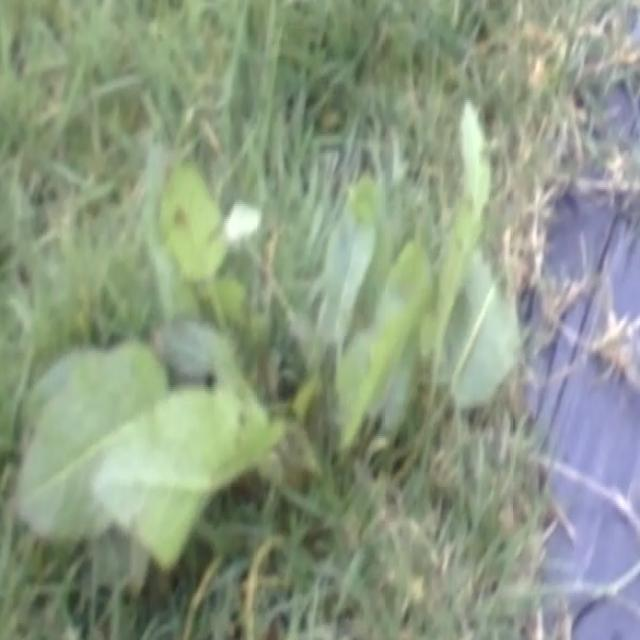organic waste: (10, 137, 556, 593)
